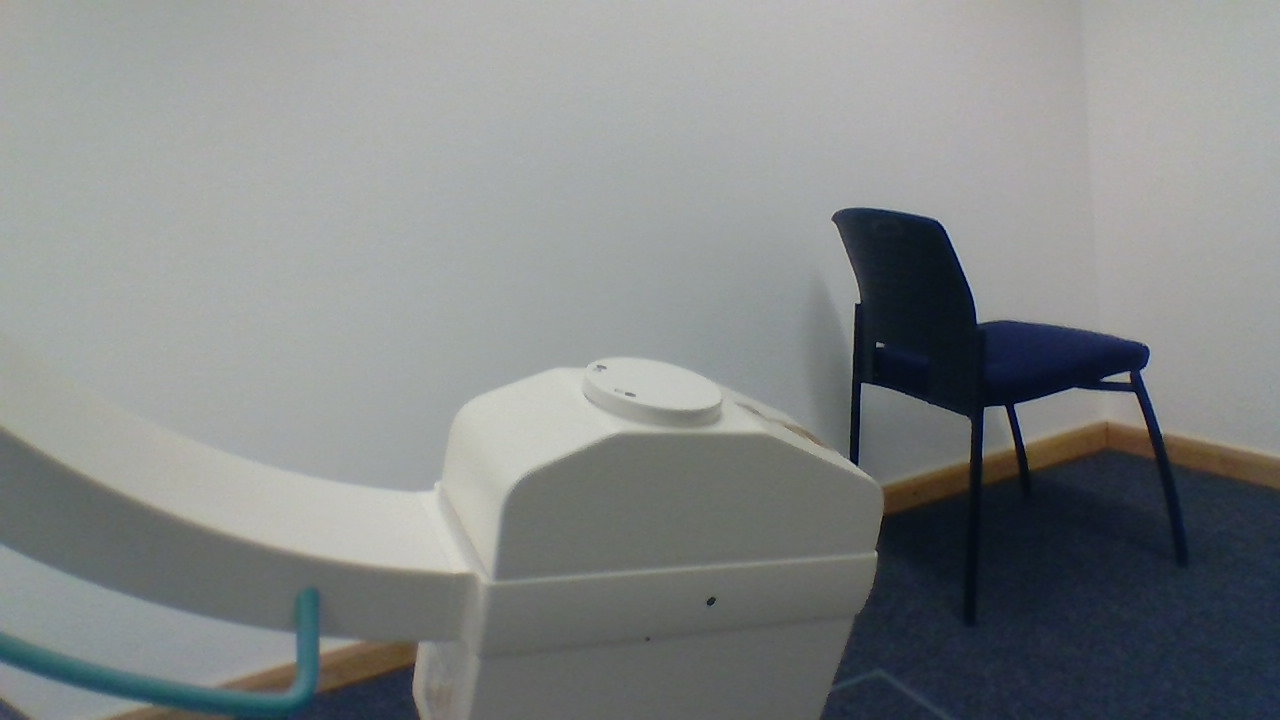carmDOWN: (438, 352, 884, 585)
